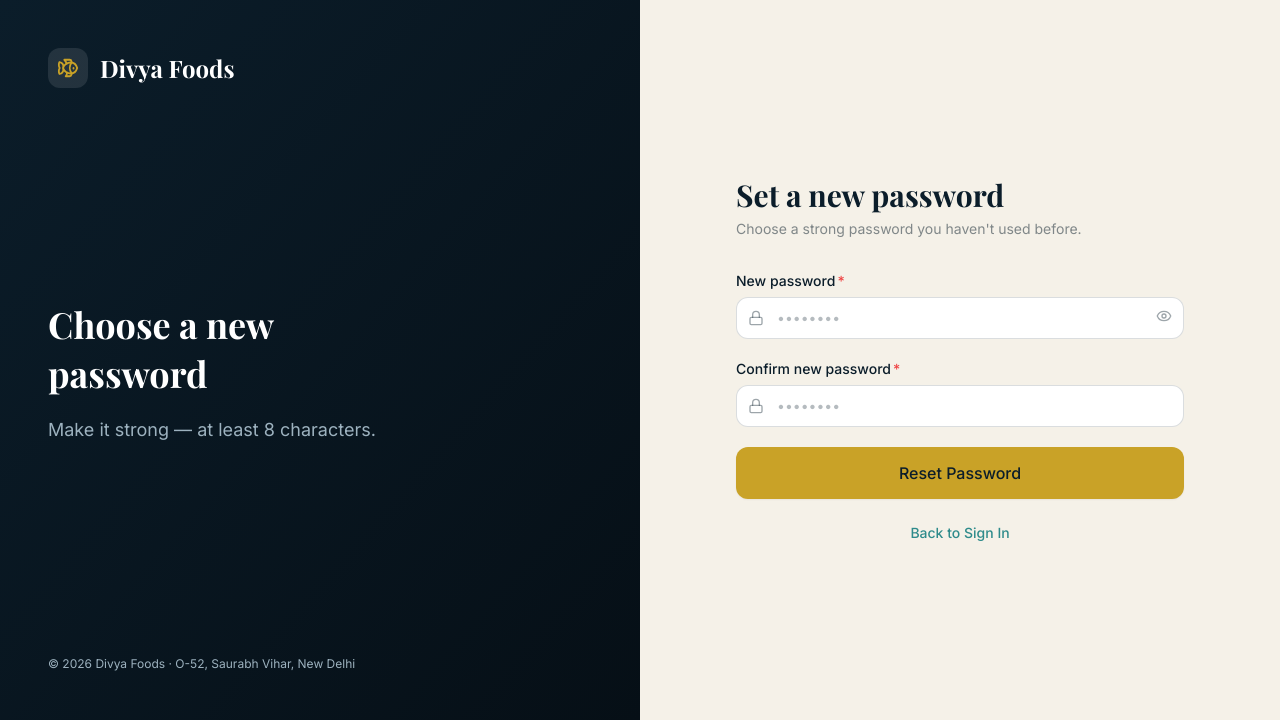
it: ResetPasswordPage › rejects a password shorter than 8 characters
In the password field labelled "New password*": coordinates (960, 318) left=736, top=297, right=1184, bottom=339, type "short"
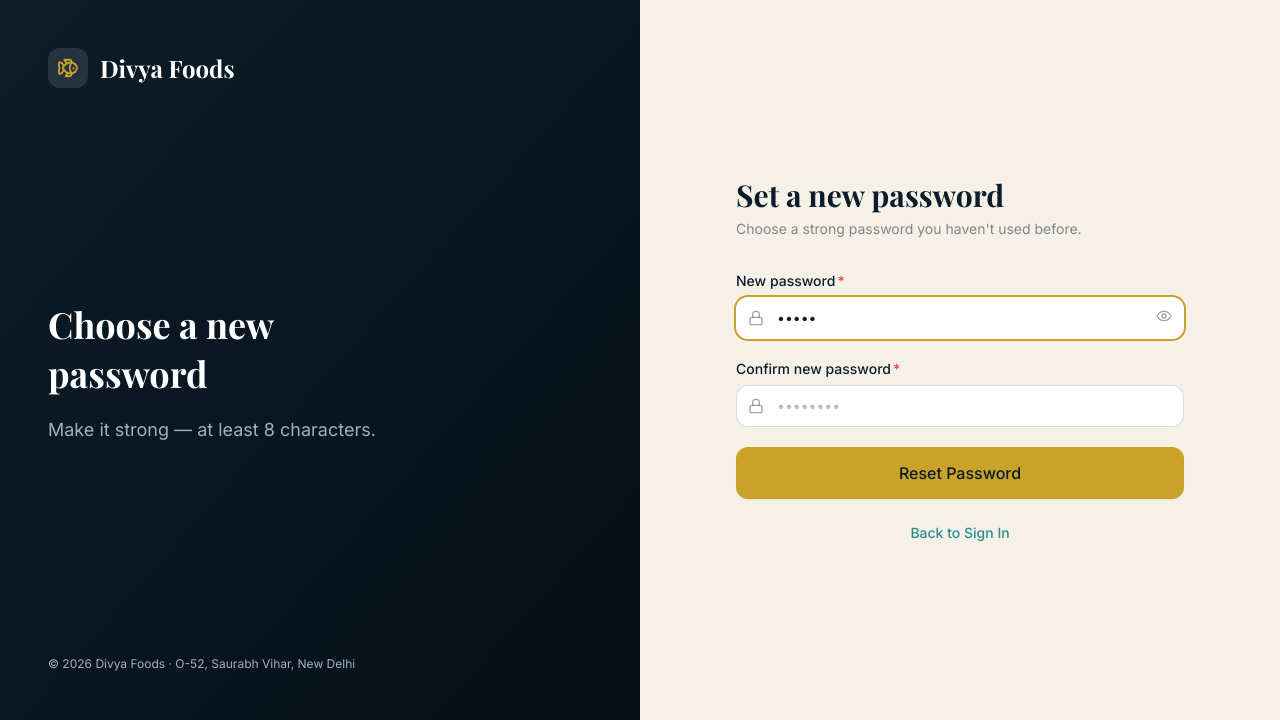
Click the button "Reset Password": coordinates (960, 473) left=736, top=447, right=1184, bottom=499
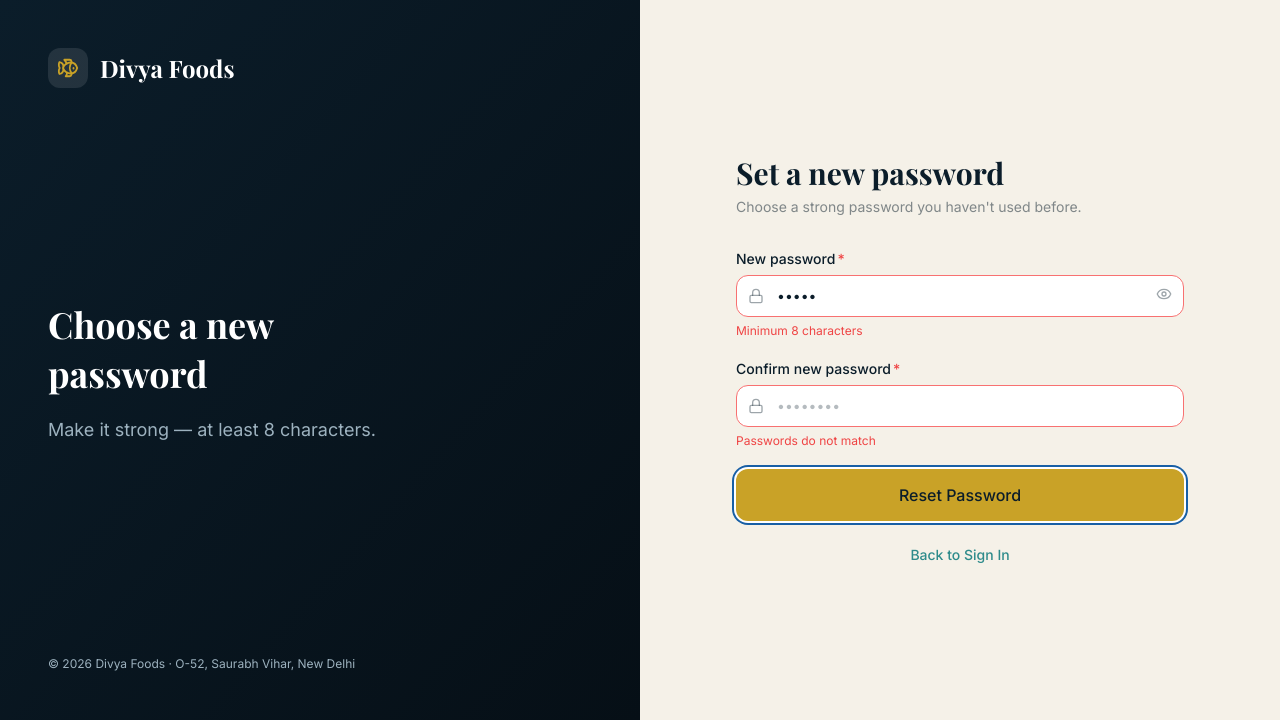
Expected: the text "Minimum 8 characters" is shown, left=736, top=323, right=862, bottom=338
